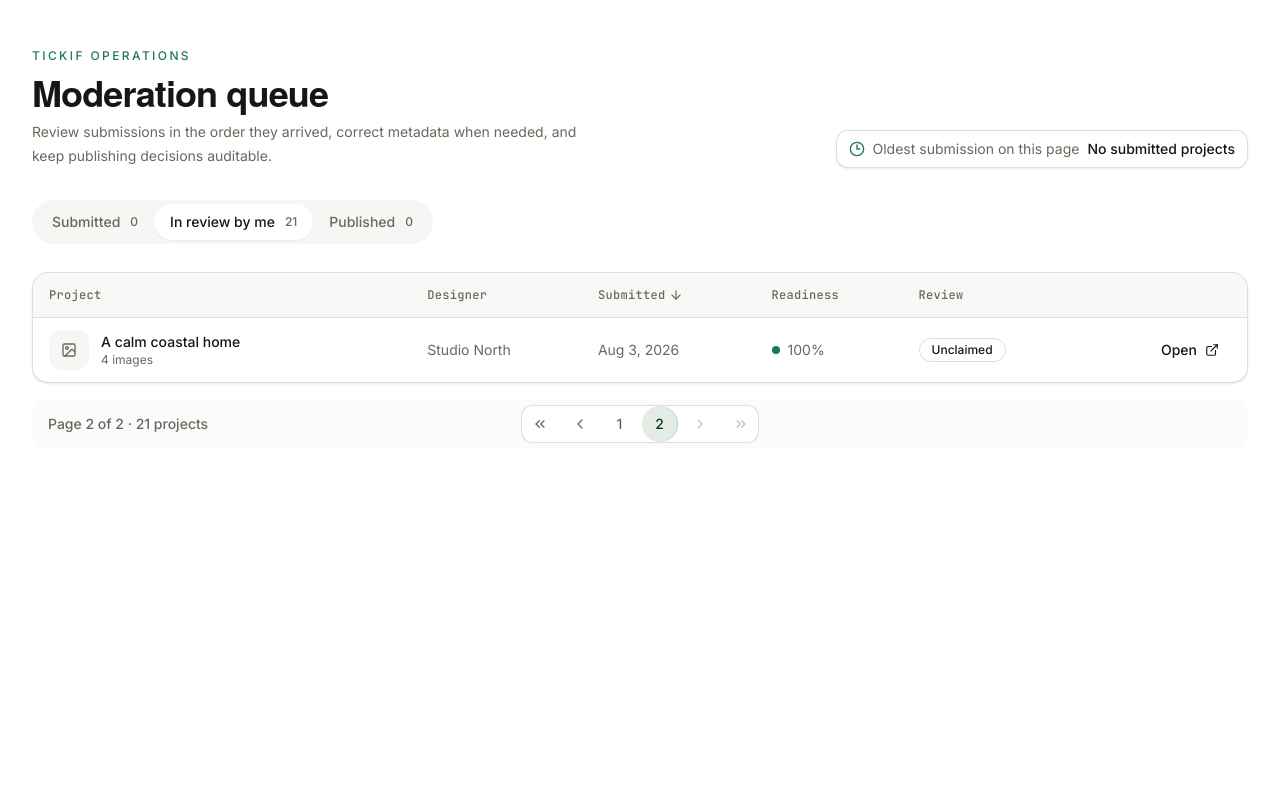
Test: AdminModerationQueue › keeps deep-linked tab and page, and corrects a page emptied by a decision
Check: the button named "Next page" is disabled, box [682,406,718,442]
Click the button with aria-label "Open review" at x=1190, y=350, box [1149,332,1231,368]
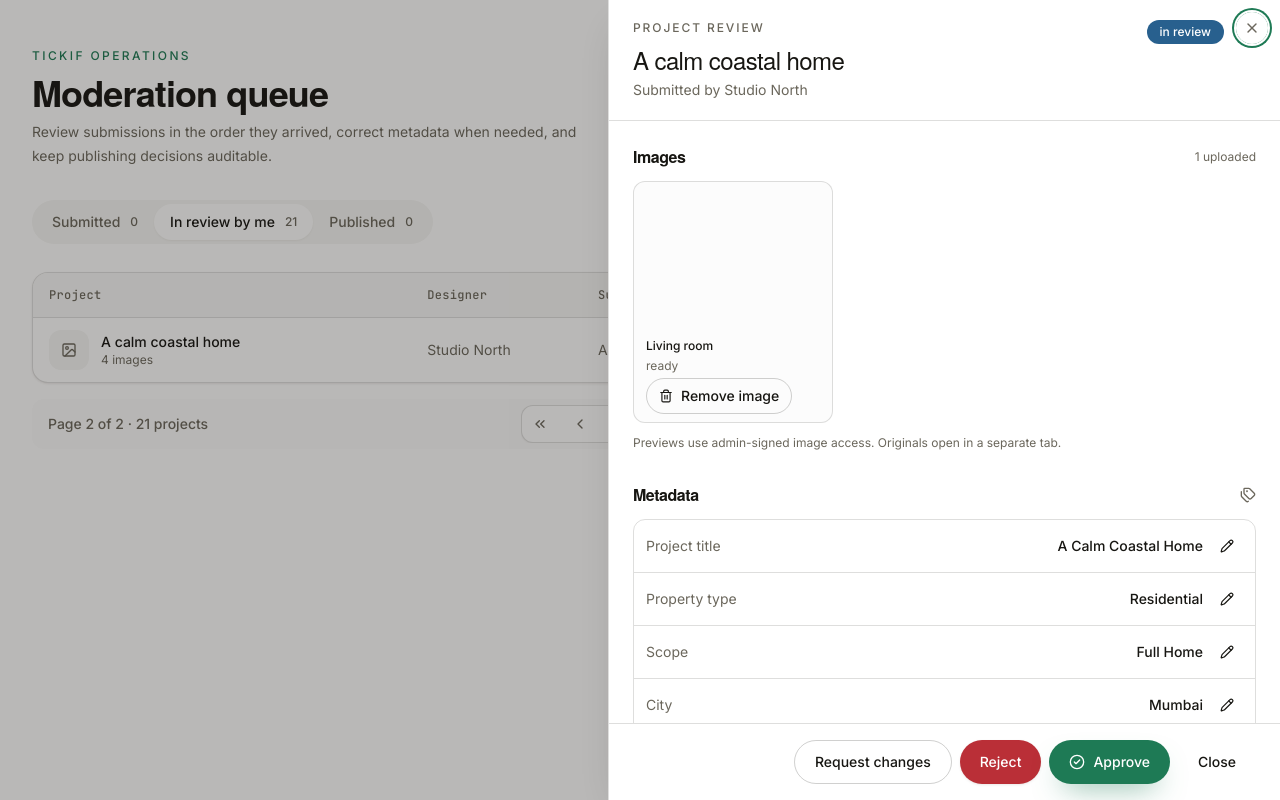
Click the button "Approve" at x=1110, y=762, box [1049,740,1170,784]
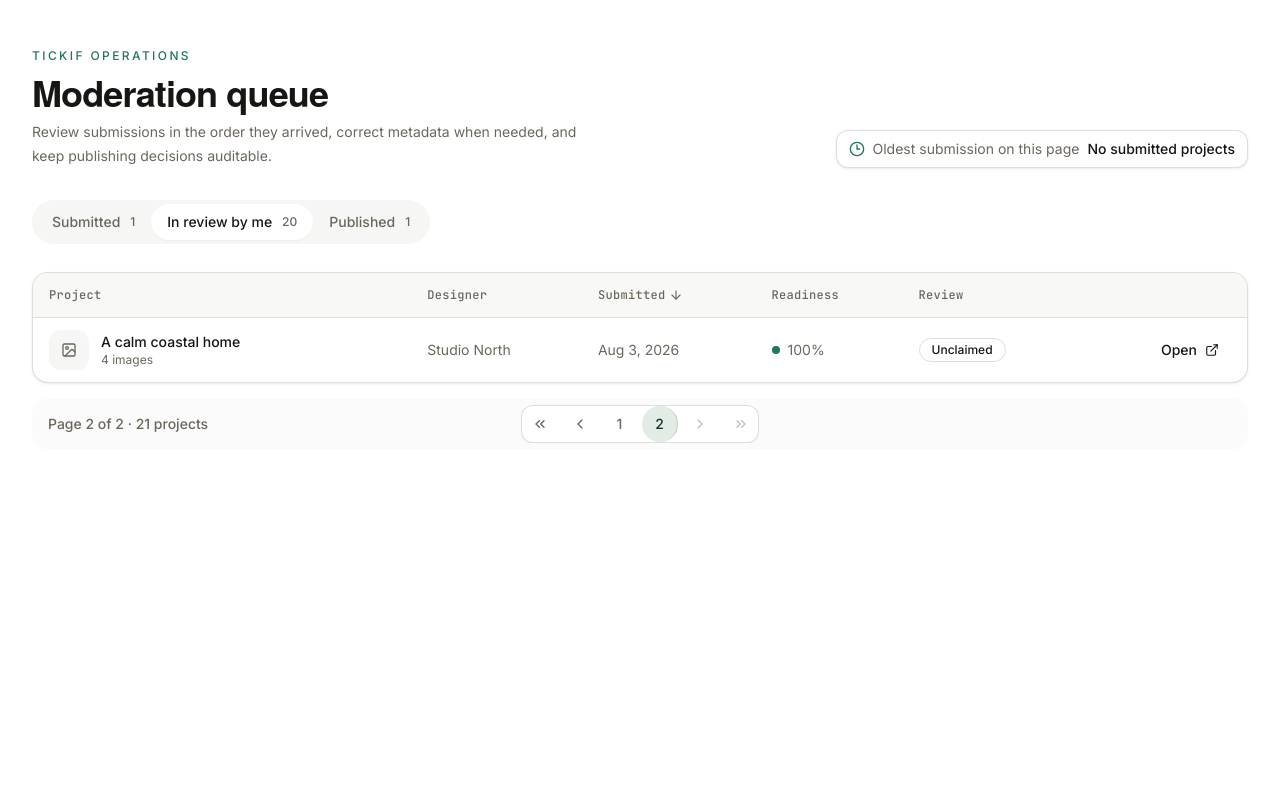
Check: the dialog is gone
